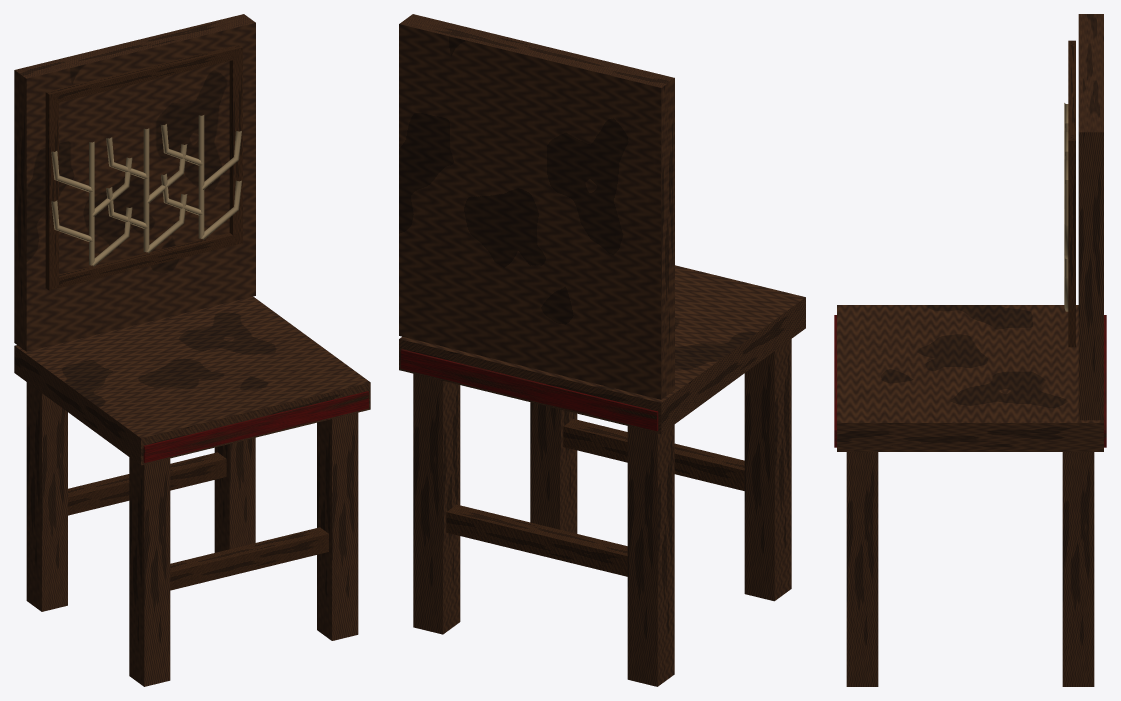
Rendered from chair_wood.glb.
The picture shows the model from 3 angles, left to right: view 1: azimuth 30°, elevation 25°; view 2: azimuth 150°, elevation 25°; view 3: azimuth 270°, elevation 25°; orthographic projection. The views are drawn at different scales.
Parts seen in each view (by area): view 1: Back, Seat, Art_WarmWood, Leg_-18_17, Leg_18_17, Leg_-18_-17, Art_FadedThread, Leg_18_-17, Art_BurntLacquer; view 2: Back, Seat, Leg_-18_-17, Leg_18_-17, Leg_-18_17, Art_WarmWood, Leg_18_17, Art_BurntLacquer; view 3: Seat, Back, Leg_18_-17, Leg_18_17, Art_WarmWood, Art_FadedThread, Art_BurntLacquer.
Part boxes in pixels (bbox=[...]): Back: bbox=[14, 14, 255, 351]; Seat: bbox=[14, 296, 370, 465]; Art_WarmWood: bbox=[45, 44, 328, 590]; Leg_-18_17: bbox=[129, 457, 170, 686]; Leg_18_17: bbox=[317, 412, 358, 640]; Leg_-18_-17: bbox=[26, 382, 67, 611]; Art_FadedThread: bbox=[51, 115, 241, 266]; Leg_18_-17: bbox=[214, 437, 255, 552]; Art_BurntLacquer: bbox=[143, 391, 368, 462]; Back: bbox=[399, 14, 674, 399]; Seat: bbox=[399, 265, 805, 433]; Leg_-18_-17: bbox=[627, 424, 674, 686]; Leg_18_-17: bbox=[413, 373, 460, 634]; Leg_-18_17: bbox=[744, 339, 791, 601]; Art_WarmWood: bbox=[446, 419, 744, 576]; Leg_18_17: bbox=[530, 402, 577, 533]; Art_BurntLacquer: bbox=[400, 349, 658, 431]; Seat: bbox=[837, 305, 1103, 451]; Back: bbox=[1078, 14, 1103, 420]; Leg_18_-17: bbox=[1062, 452, 1094, 686]; Leg_18_17: bbox=[846, 452, 878, 686]; Art_WarmWood: bbox=[1068, 40, 1075, 347]; Art_FadedThread: bbox=[1064, 103, 1068, 311]; Art_BurntLacquer: bbox=[834, 315, 1106, 447].
Size of what is drawn, in the model's own units: 0.44 by 0.97 by 0.428.
4 materials, 3 textured.
